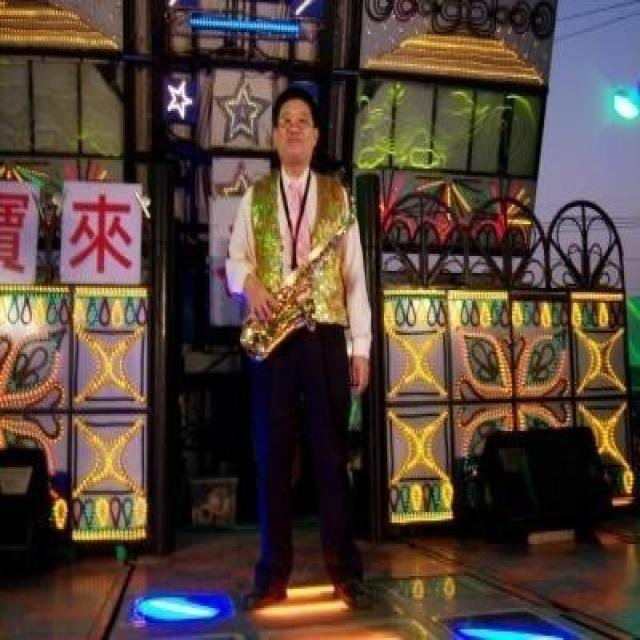saxophone: (237, 164, 356, 358)
